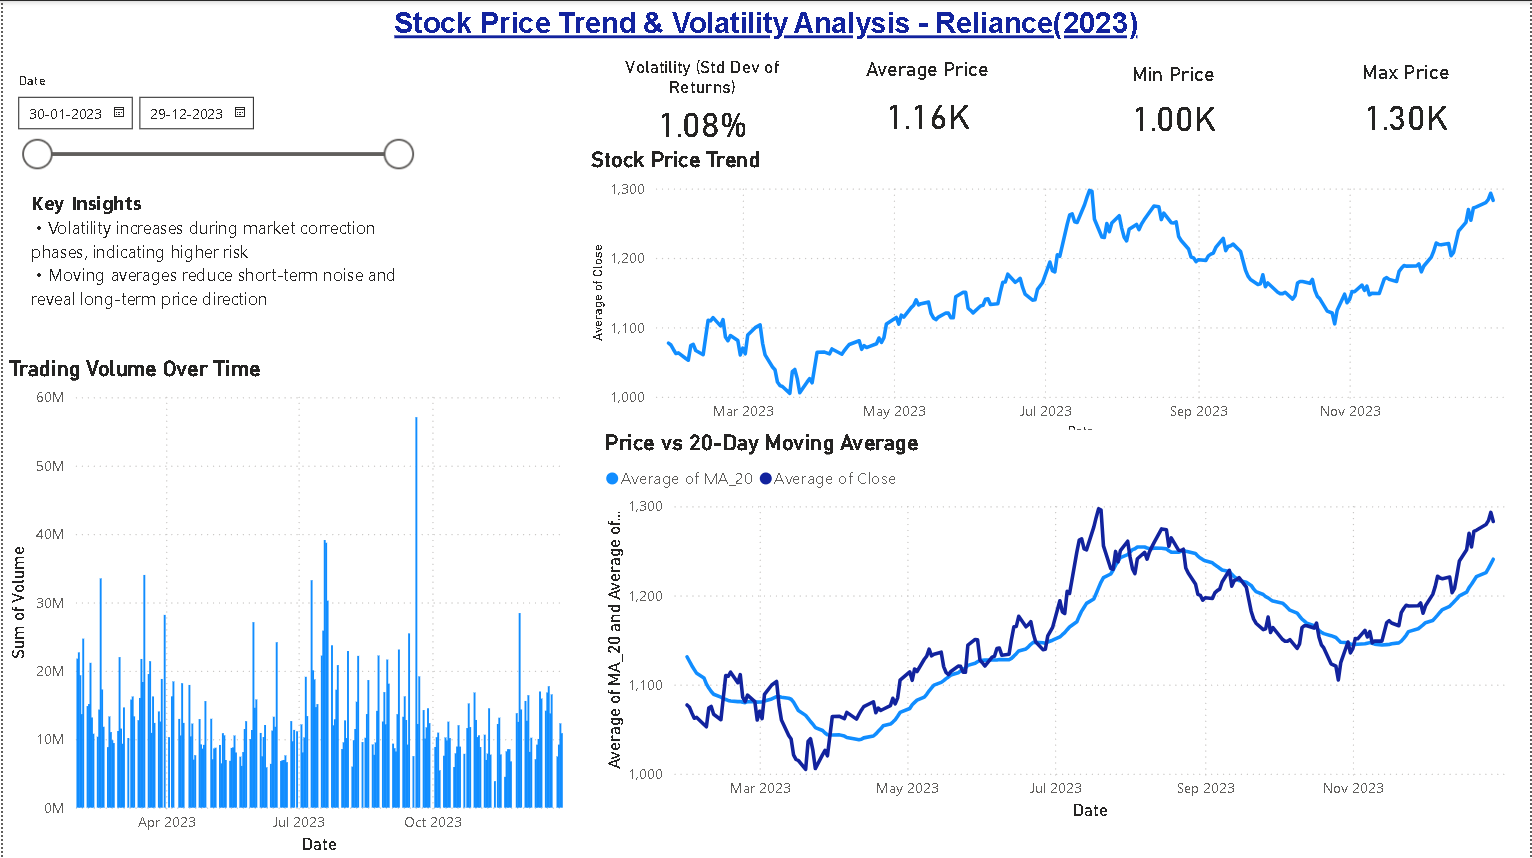

This screenshot's page, from the dashboard's own definition file:
{"tool":"powerbi","page":{"name":"Page 1","canvas":[1280,720],"ordinal":0},"visuals":[{"type":"lineChart","title":"Stock Price Trend","fields":{"Y":["Avg(reliance_stock.Close)"],"Category":["reliance_stock.Date"]},"box":[488.2,122.9,791.5,249.3],"z":0},{"type":"lineChart","title":"Price vs 20-Day Moving Average","fields":{"Y":["Avg(reliance_stock.MA_20)","Avg(reliance_stock.Close)"],"Category":["reliance_stock.Date"]},"box":[500,360,780,332.2],"z":1000},{"type":"columnChart","title":"Trading Volume Over Time","fields":{"Category":["reliance_stock.Date"],"Y":["Sum(reliance_stock.Volume)"]},"box":[0,297.5,499.7,422.7],"z":2000},{"type":"card","title":"Average Price","fields":{"Values":["reliance_stock.Average Price"]},"box":[660.5,47.1,229.7,77],"z":3000},{"type":"card","title":"Max Price","fields":{"Values":["reliance_stock.Max Price"]},"box":[1094.2,49.1,164.2,74.3],"z":4000},{"type":"card","title":"Min Price","fields":{"Values":["reliance_stock.Min Price"]},"box":[869.6,51.7,225.1,72.4],"z":5000},{"type":"card","title":"Volatility (Std Dev of Returns)","fields":{"Values":["reliance_stock.Volatility"]},"box":[488.2,47.1,195.3,75.8],"z":6000},{"type":"slicer","fields":{"Values":["reliance_stock.Date"]},"box":[0,55.1,352.7,87.3],"z":7000},{"type":"textbox","box":[0,0,1279.6,47.1],"z":8000},{"type":"textbox","box":[18.4,151.6,334.3,128.7],"z":8001}]}

Visuals, with their boxes in screenshot pixels (x1, y1, x2, y2), scaled from the page's 1280x720 canvas onto the 1532x858 screenshot:
"Stock Price Trend" lineChart: bbox(584, 146, 1531, 444)
"Price vs 20-Day Moving Average" lineChart: bbox(598, 429, 1531, 825)
"Trading Volume Over Time" columnChart: bbox(0, 355, 598, 857)
"Average Price" card: bbox(791, 56, 1065, 148)
"Max Price" card: bbox(1310, 59, 1506, 147)
"Min Price" card: bbox(1041, 62, 1310, 148)
"Volatility (Std Dev of Returns)" card: bbox(584, 56, 818, 146)
slicer - reliance_stock.Date: bbox(0, 66, 422, 170)
textbox: bbox(0, 0, 1531, 56)
textbox: bbox(22, 181, 422, 334)
